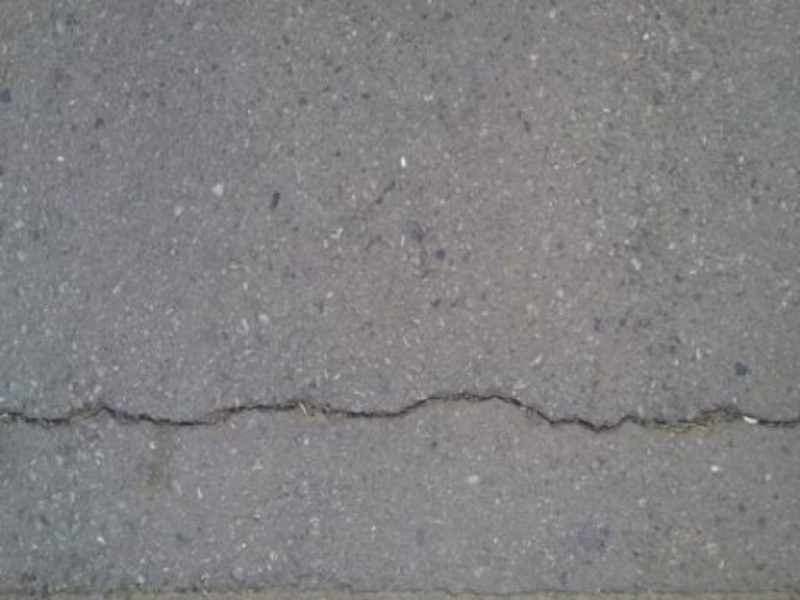crack: (11, 358, 800, 470)
